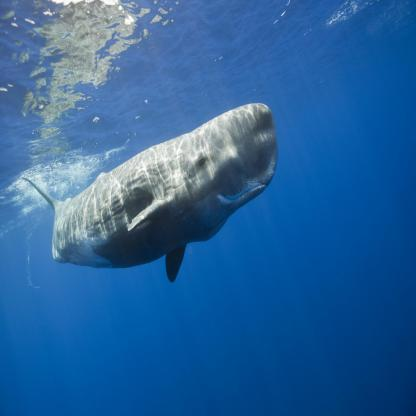sperm_whale: (24, 94, 283, 331)
